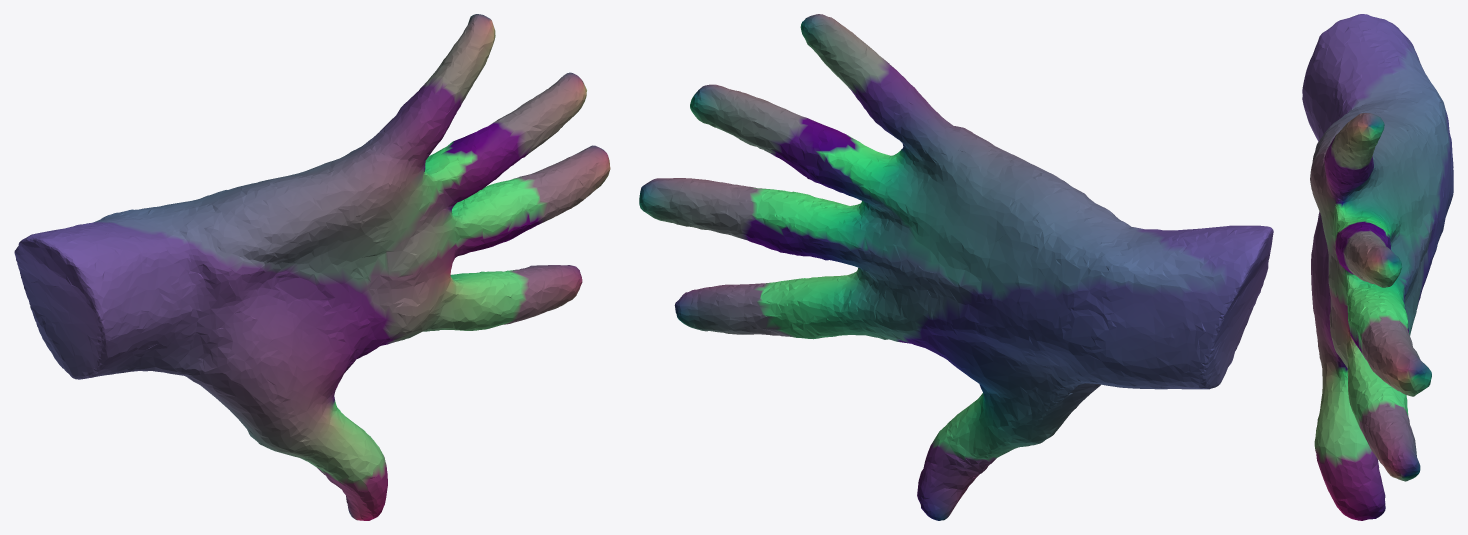
Rendered from hand-9.off.obj.
The picture shows the model from 3 angles, left to right: view 1: azimuth 30°, elevation 25°; view 2: azimuth 150°, elevation 25°; view 3: azimuth 270°, elevation 25°; orthographic projection. The views are drawn at different scales.
Size of the model in its own units: 1.75 by 1.32 by 0.3914.
